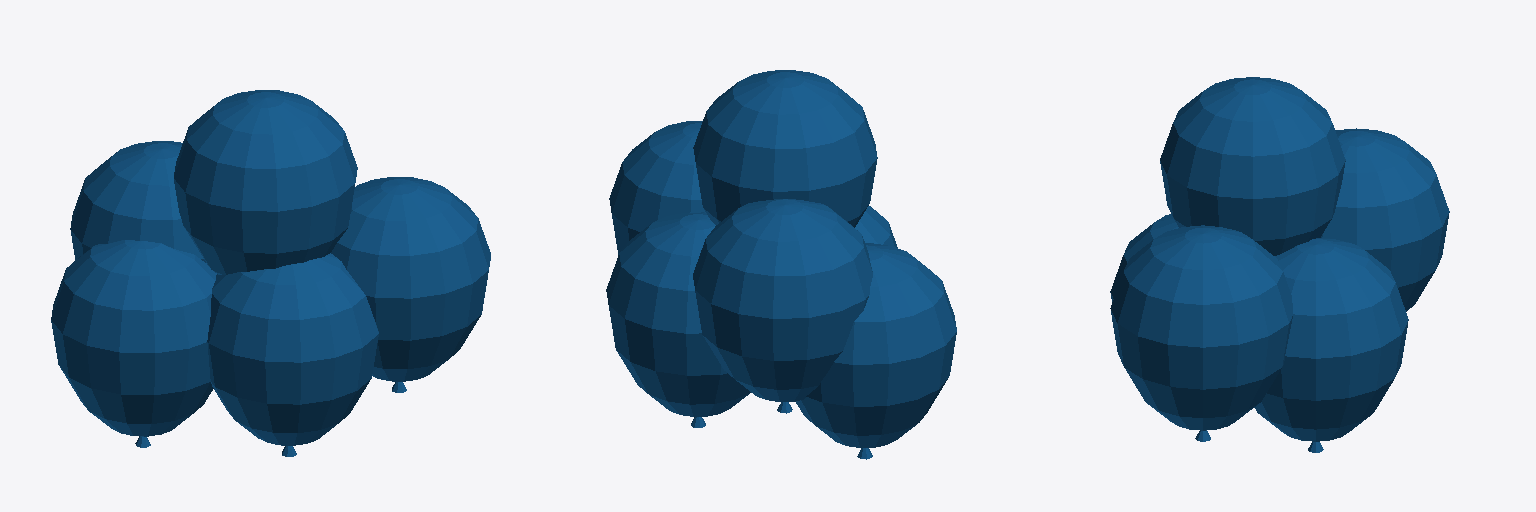
The picture shows the model from 3 angles: view 1: azimuth 30°, elevation 25°; view 2: azimuth 150°, elevation 25°; view 3: azimuth 270°, elevation 25°; orthographic projection.
Visible parts, largest first — view 1: Balloon.002_Material.009, Balloon.002_Material.005, Balloon.002_Material.001, Balloon.002_Material.003, Balloon.002_Material.011; view 2: Balloon.002_Material.011, Balloon.002_Material.009, Balloon.002_Material.005, Balloon.002_Material.007, Balloon.002_Material.003, Balloon.002_Material.001; view 3: Balloon.002_Material.003, Balloon.002_Material.009, Balloon.002_Material.007, Balloon.002_Material.011, Balloon.002_Material.001.
Boxes of the visible parts, box(x1,y1,x2,y2) form: Balloon.002_Material.009: box(174, 90, 357, 274); Balloon.002_Material.005: box(51, 240, 216, 436); Balloon.002_Material.001: box(207, 253, 378, 445); Balloon.002_Material.003: box(331, 177, 490, 381); Balloon.002_Material.011: box(70, 141, 205, 262); Balloon.002_Material.011: box(693, 199, 872, 401); Balloon.002_Material.009: box(693, 70, 877, 227); Balloon.002_Material.005: box(796, 243, 956, 447); Balloon.002_Material.007: box(606, 212, 750, 416); Balloon.002_Material.003: box(609, 121, 705, 254); Balloon.002_Material.001: box(855, 206, 897, 247); Balloon.002_Material.003: box(1110, 225, 1292, 430); Balloon.002_Material.009: box(1160, 77, 1345, 255); Balloon.002_Material.007: box(1254, 238, 1408, 441); Balloon.002_Material.011: box(1321, 128, 1449, 311); Balloon.002_Material.001: box(1110, 214, 1178, 301).
Bounding box in the file's own units: 3.69 × 3.21 × 2.93.
12 materials, 1 textured.